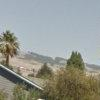Palm tree: (2, 27, 21, 72)
